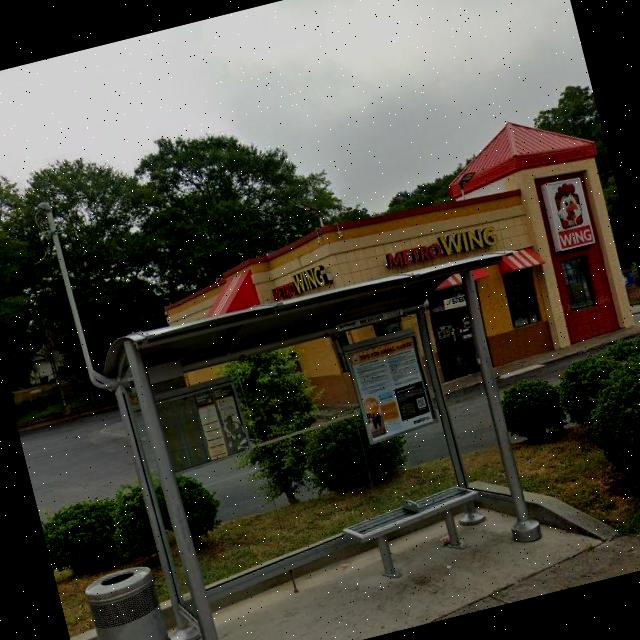seating: (339, 480, 494, 587)
shelter: (87, 233, 602, 640)
trash_can: (79, 561, 181, 640)
